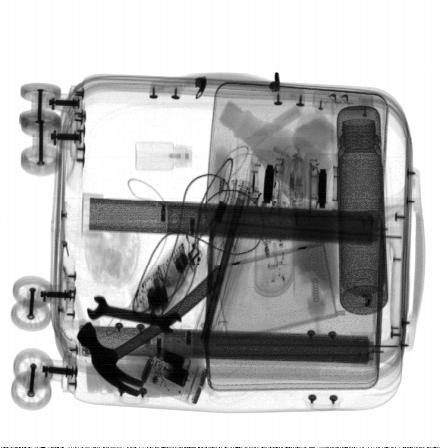Hammer: (77, 265, 224, 400)
Wrench: (87, 296, 183, 332)
